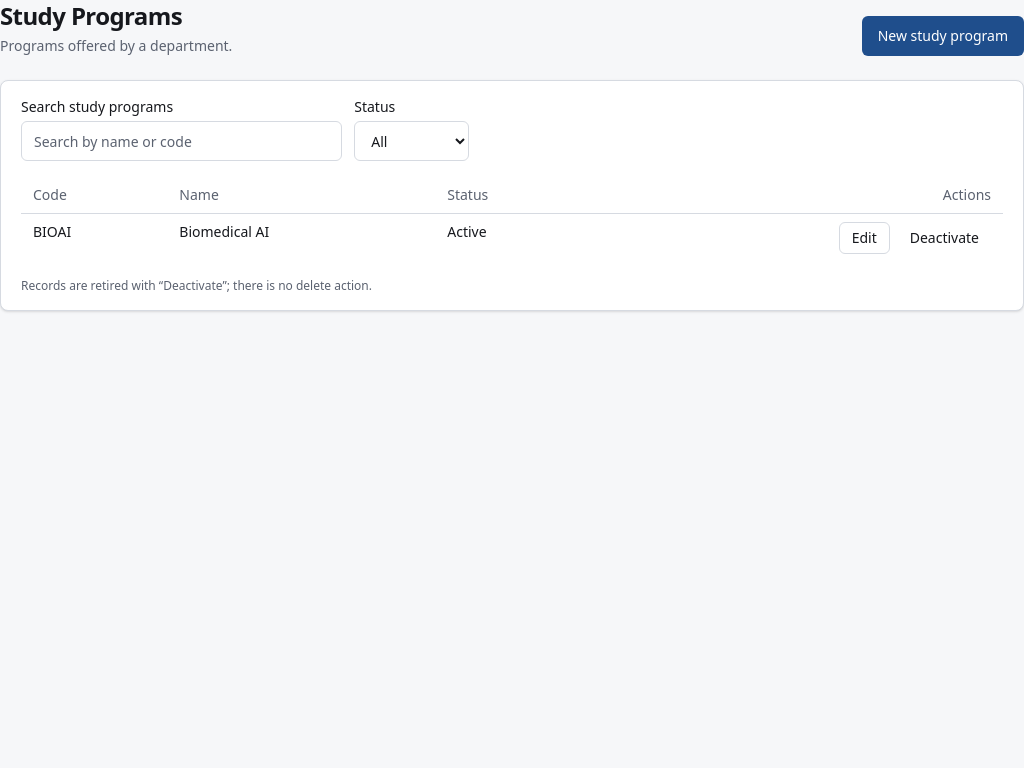
Test: academic resource page — create and edit › edits a record with a partial update
Click the button with aria-label "Edit study program BIOAI — Biomedical AI": (864, 238) [839, 222, 890, 254]
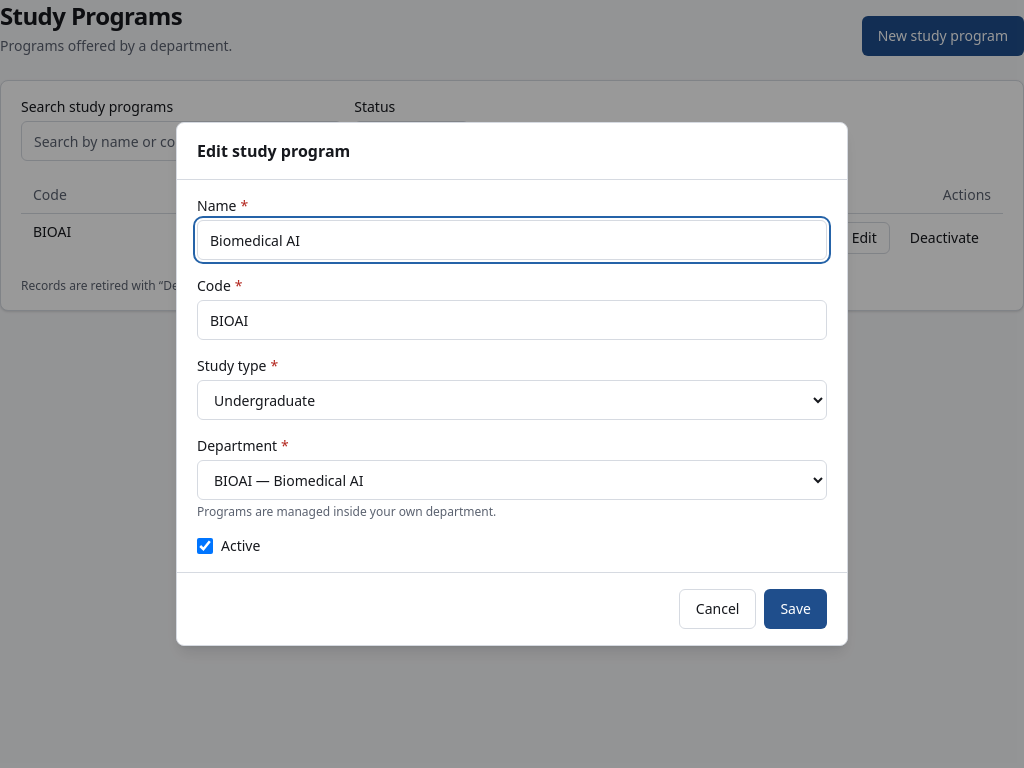
In the field labelled "Name*": (512, 240) [197, 220, 827, 260], type "Biomedical AI II"
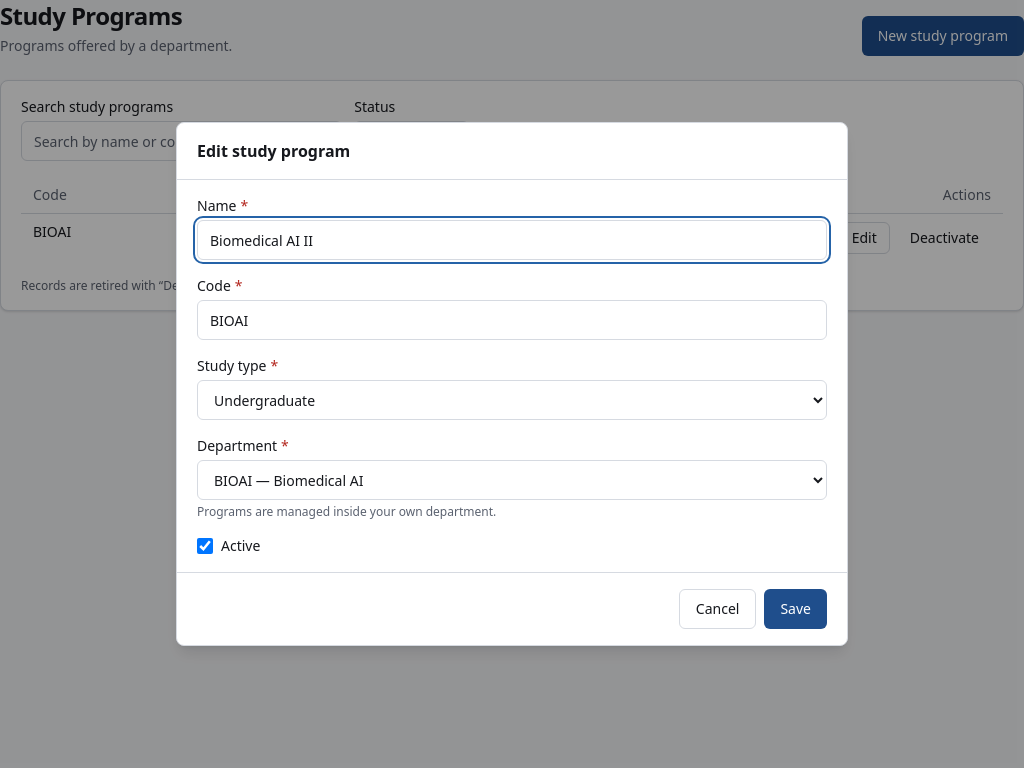
Click the button "Save": (796, 609) [764, 589, 827, 629]
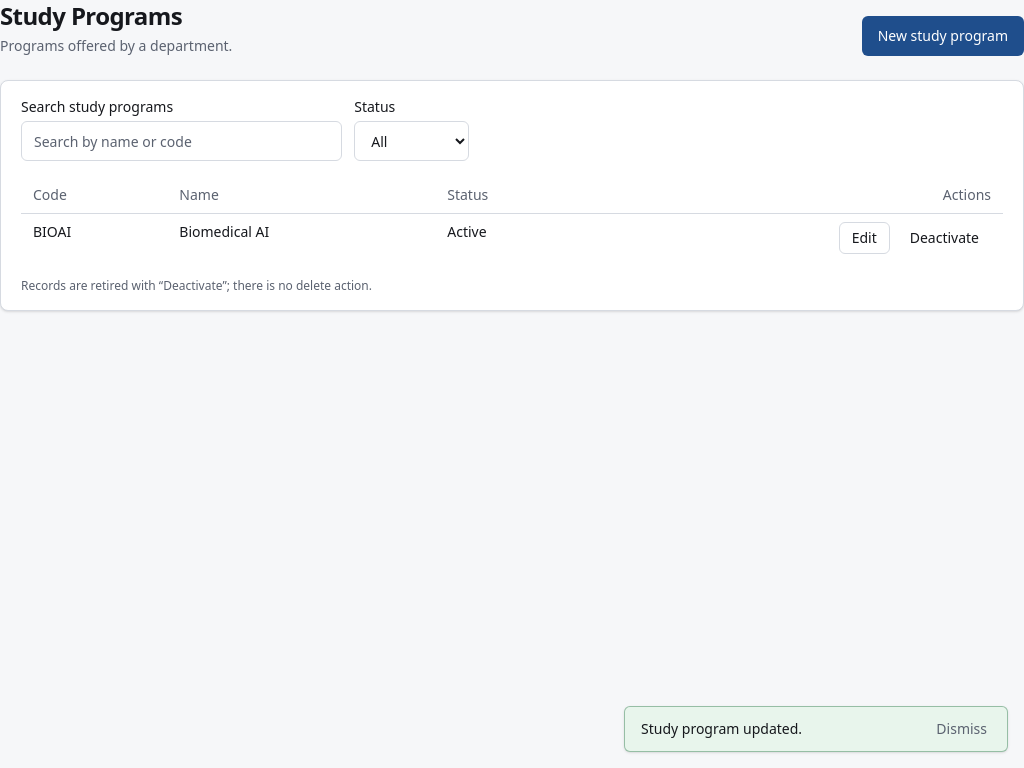
Expected: the text "Study program updated." is shown, [641, 719, 802, 739]
